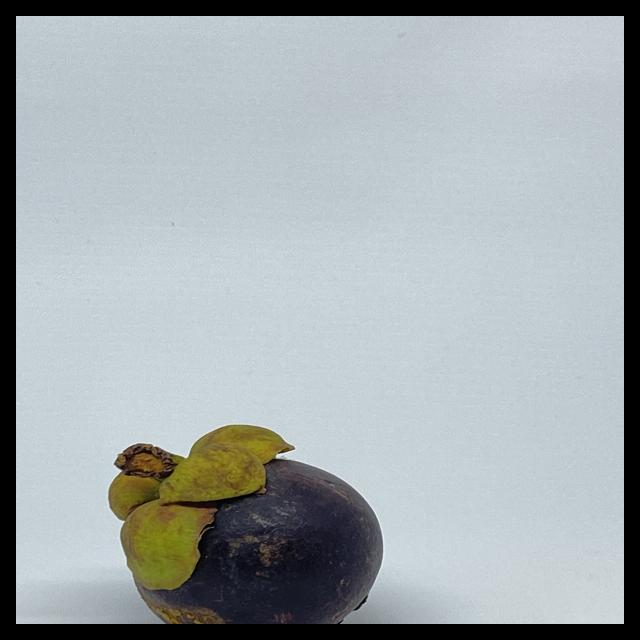mangosteen: (84, 418, 418, 624)
